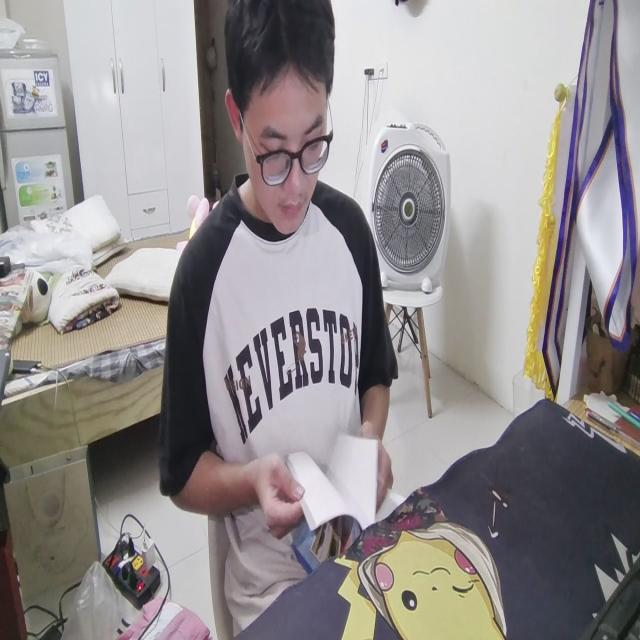book: (280, 433, 403, 568)
student: (163, 0, 404, 638)
